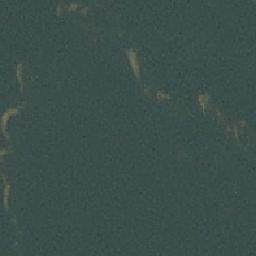debris: (216, 112, 240, 134), (1, 109, 16, 143), (1, 174, 13, 207), (125, 50, 139, 76), (153, 91, 171, 103), (16, 64, 23, 92), (198, 91, 207, 112)
